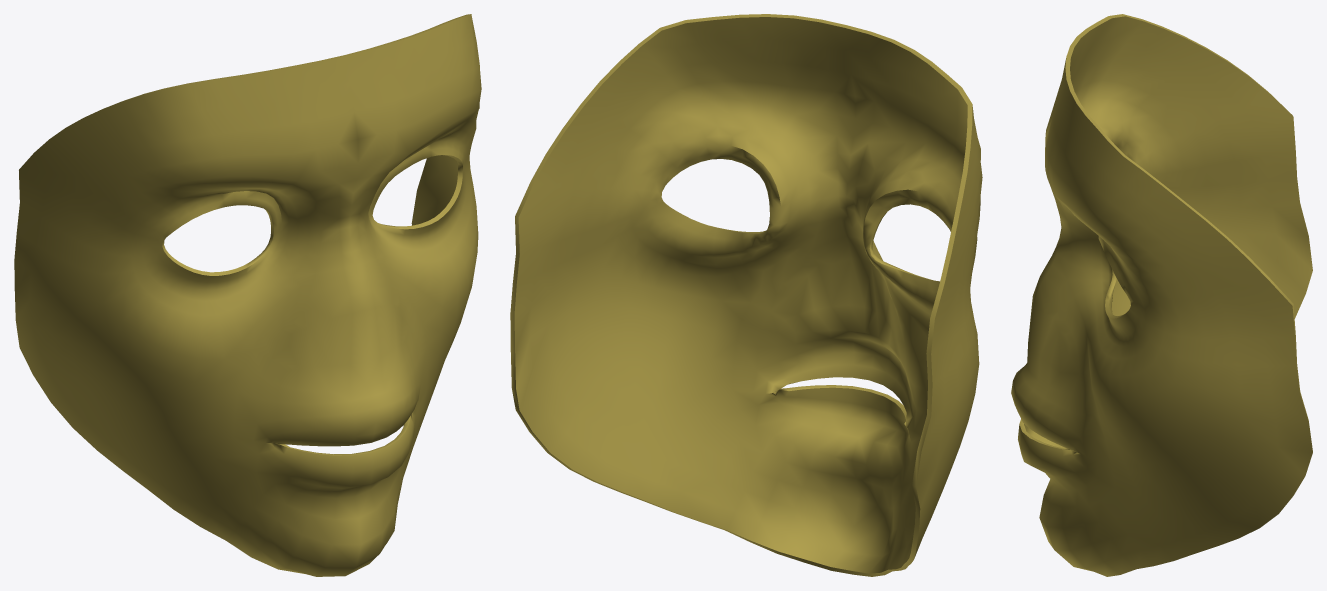
File: Mask.fbx
3 views of the same model, side by side, from view 1: azimuth 30°, elevation 25°; view 2: azimuth 150°, elevation 25°; view 3: azimuth 270°, elevation 25° (orthographic). The views are drawn at different scales.
Parts seen in each view (by area): view 1: Mask; view 2: Mask; view 3: Mask.
Part boxes in pixels (x1,y1,x2,y2): Mask: [14, 14, 481, 576]; Mask: [510, 14, 982, 576]; Mask: [1011, 14, 1312, 576].
Size of the model in its own units: 21.84 by 26.49 by 14.57.
